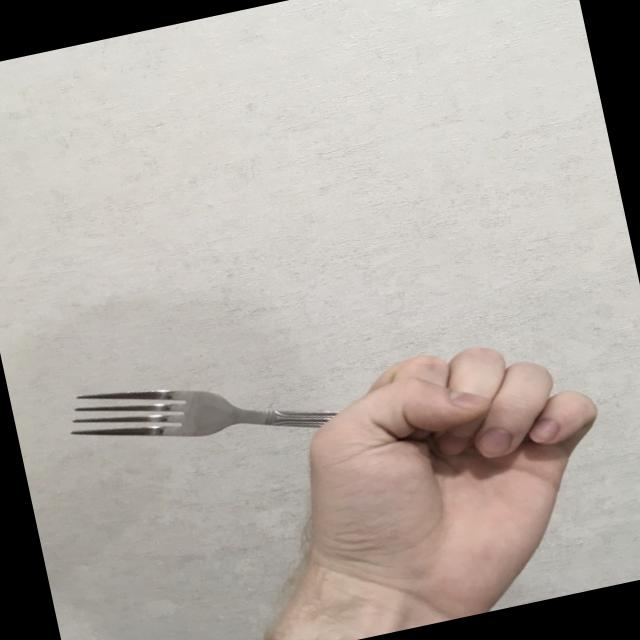fork: (62, 320, 418, 490)
